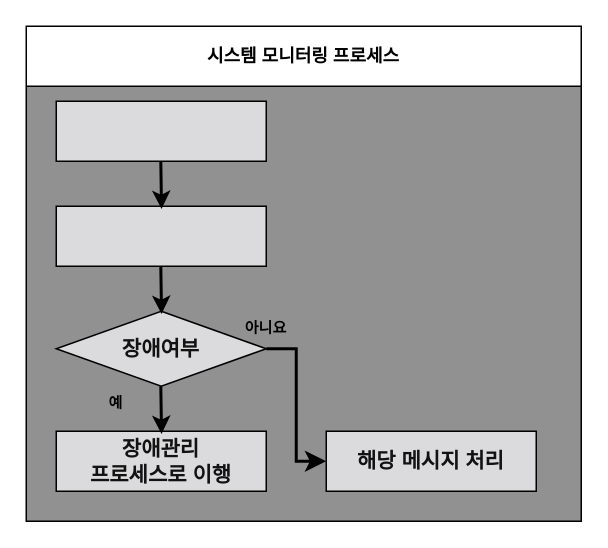
This 608x548 diagram has some shape labels left out. The shapes that lost their labels are listed below. From the top down, each one's box as (x1, y1, x2, y2) in pixels, then its label:
(55, 100, 266, 161): 서버별 메시지 발생
(55, 205, 266, 266): 모니터링 콘솔로 전송
